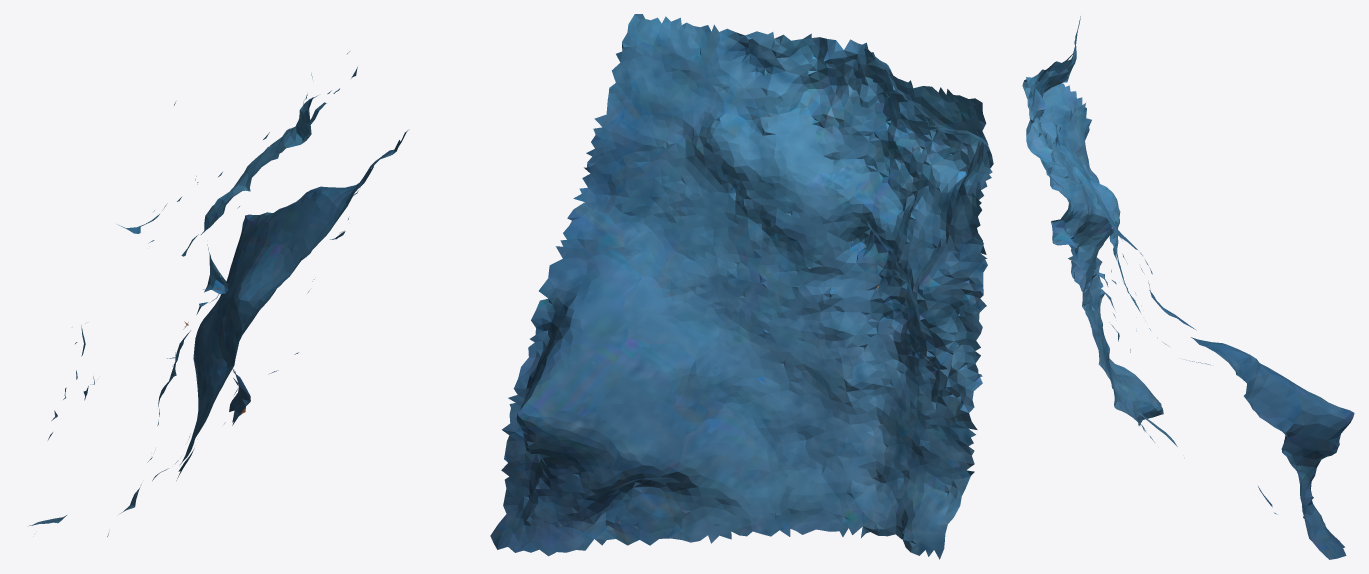
Rendered from tile_0495.gltf.
The picture shows the model from 3 angles, left to right: view 1: azimuth 30°, elevation 25°; view 2: azimuth 150°, elevation 25°; view 3: azimuth 270°, elevation 25°; orthographic projection. The views are drawn at different scales.
Parts seen in each view (by area): view 1: defaultobject; view 2: defaultobject; view 3: defaultobject.
Boxes of the visible parts, x1=… form: defaultobject: x1=29, y1=51, x2=409, y2=536; defaultobject: x1=490, y1=14, x2=993, y2=559; defaultobject: x1=1022, y1=16, x2=1354, y2=559.
Bounding box in the file's own units: 0.348 × 0.3965 × 0.301.
Materials: 2 (2 with a texture image).
